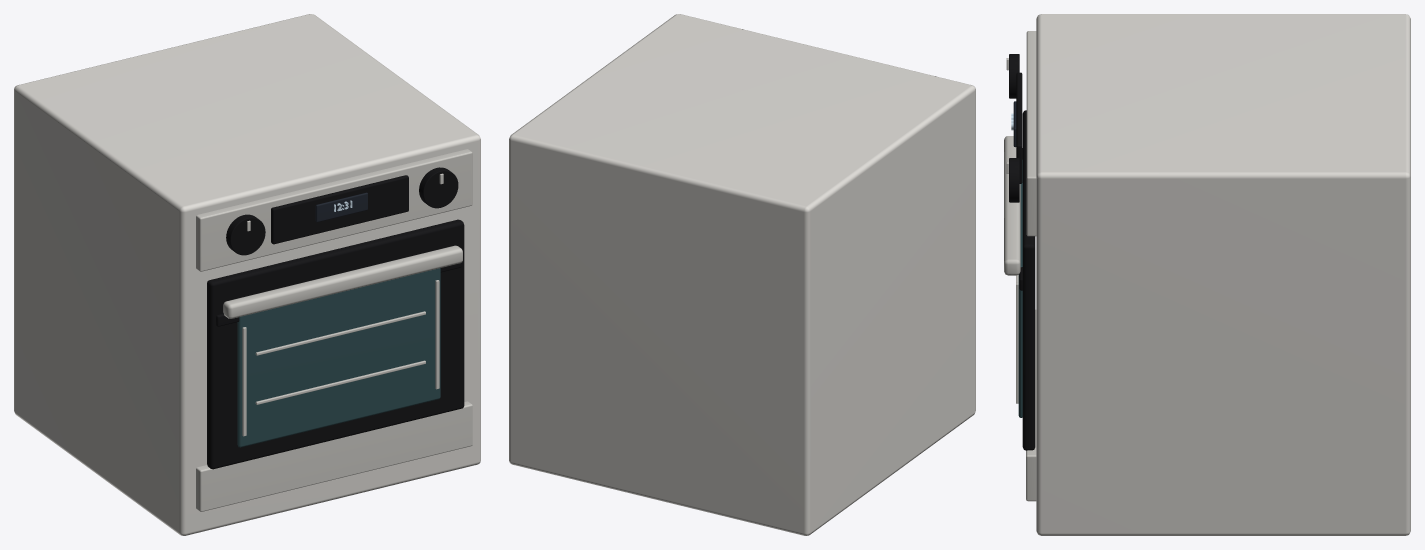
File: oven.glb
3 renders of one model, left to right at view 1: azimuth 30°, elevation 25°; view 2: azimuth 150°, elevation 25°; view 3: azimuth 270°, elevation 25°, orthographic. The views are drawn at different scales.
Visible parts, largest first — view 1: SM_Kitchen_Oven_Glass_Door; view 2: SM_Kitchen_Oven_Glass_Door; view 3: SM_Kitchen_Oven_Glass_Door.
Boxes of the visible parts, x1=… form: SM_Kitchen_Oven_Glass_Door: x1=14, y1=14, x2=480, y2=535; SM_Kitchen_Oven_Glass_Door: x1=509, y1=14, x2=975, y2=535; SM_Kitchen_Oven_Glass_Door: x1=1004, y1=14, x2=1410, y2=535.
Bounding box in the file's own units: 0.8486 × 0.8884 × 0.9.
